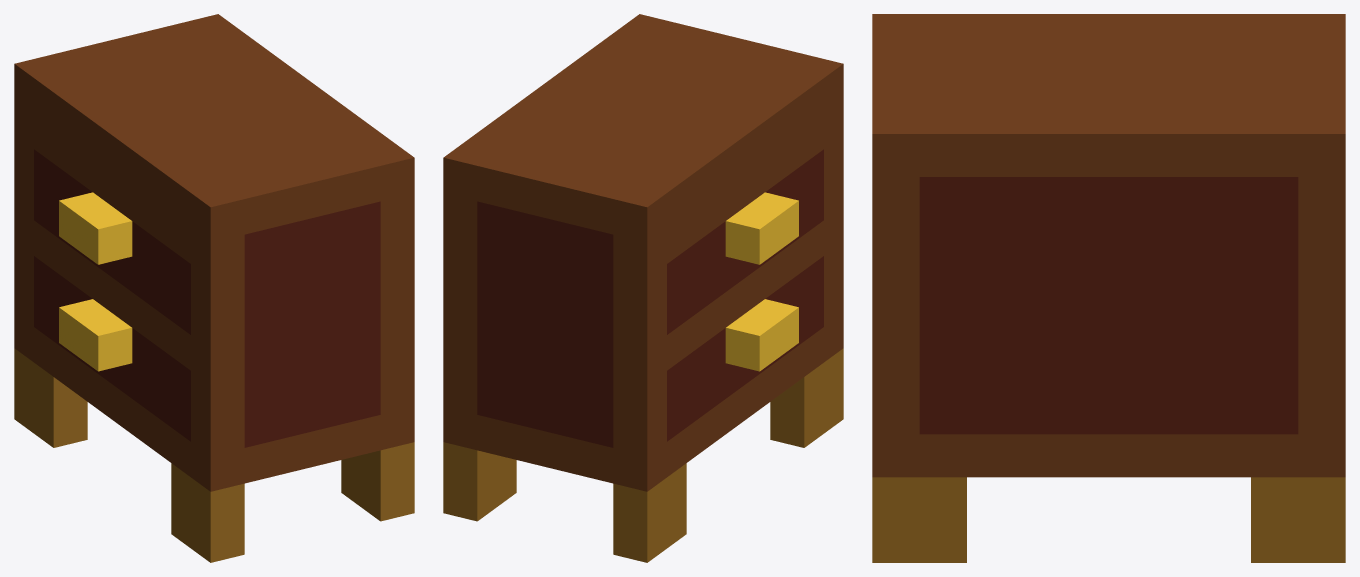
File: dresser.obj
3 views of the same model, side by side, from view 1: azimuth 30°, elevation 25°; view 2: azimuth 150°, elevation 25°; view 3: azimuth 270°, elevation 25° (orthographic). The views are drawn at different scales.
Size of the model in its own units: 0.7 by 1 by 1.
1 material, 1 textured.
